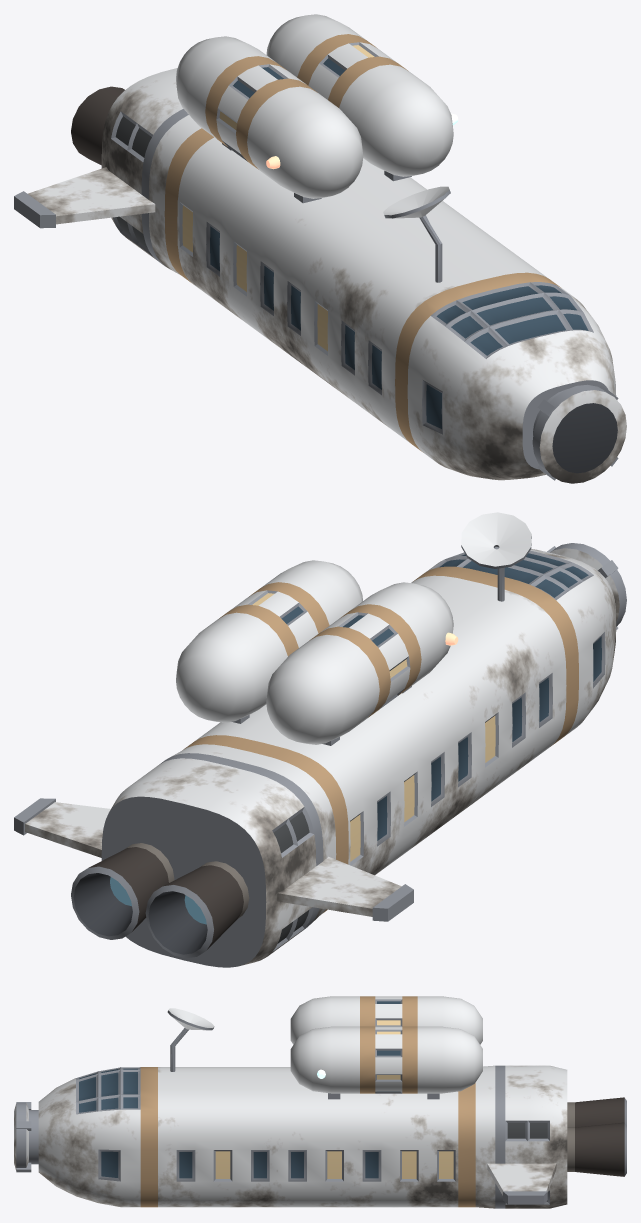
Rendered from SM_ArkShip.fbx.
3 views of the same model, one above another, from view 1: azimuth 30°, elevation 25°; view 2: azimuth 150°, elevation 25°; view 3: azimuth 270°, elevation 25° (orthographic). The views are drawn at different scales.
Parts seen in each view (by area): view 1: ArkShip; view 2: ArkShip; view 3: ArkShip.
Part boxes in pixels (x1=…): ArkShip: x1=14, y1=14, x2=626, y2=483; ArkShip: x1=14, y1=512, x2=626, y2=967; ArkShip: x1=14, y1=996, x2=626, y2=1208.
Bounding box in the file's own units: 2.4 × 1.6 × 4.94.
